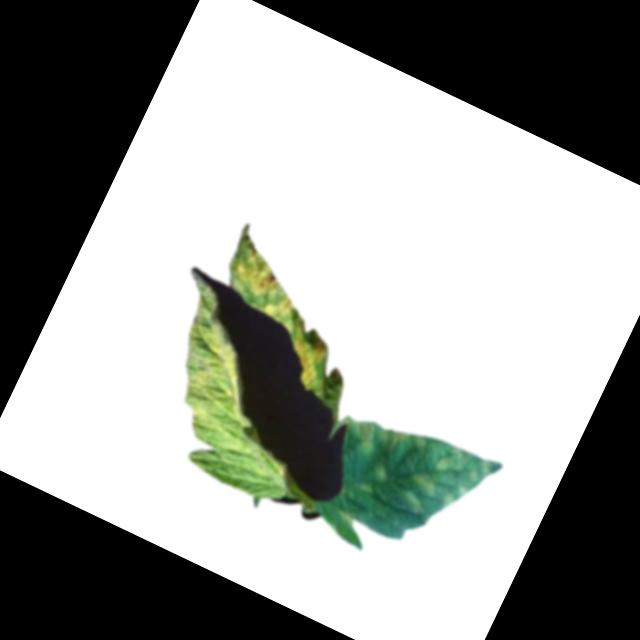Leaf_Mold: (332, 401, 502, 540), (271, 312, 343, 391), (225, 237, 293, 304), (264, 288, 296, 322)
